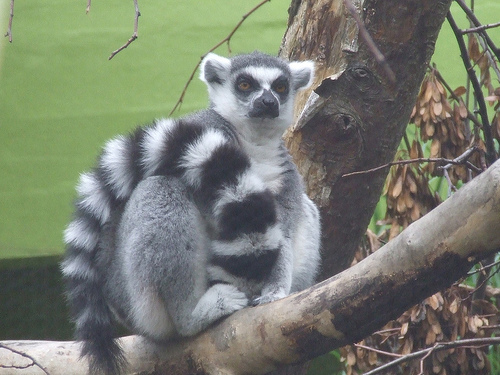cat: (58, 51, 321, 374)
